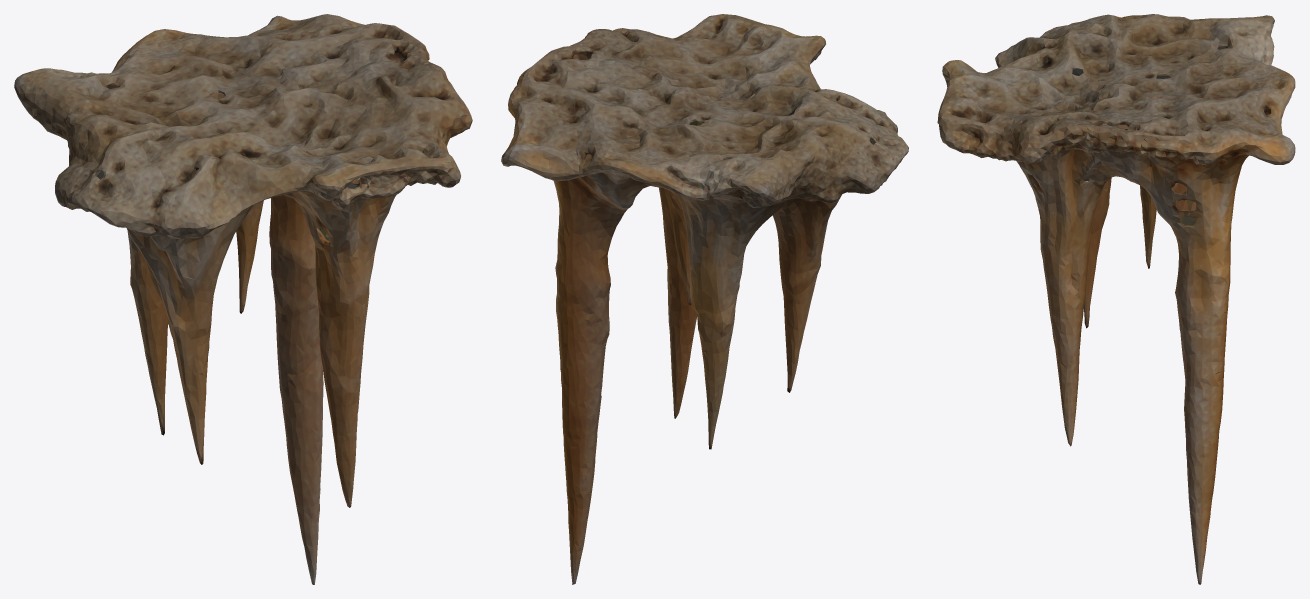
3 renders of one model, left to right at view 1: azimuth 30°, elevation 25°; view 2: azimuth 150°, elevation 25°; view 3: azimuth 270°, elevation 25°, orthographic. The views are drawn at different scales.
Parts seen in each view (by area): view 1: world; view 2: world; view 3: world.
Boxes of the visible parts, bbox=[...] form: world: bbox=[14, 14, 472, 584]; world: bbox=[501, 14, 908, 584]; world: bbox=[937, 14, 1295, 584].
Size of the model in its own units: 0.6829 by 0.9659 by 0.652.
1 material, 1 textured.
